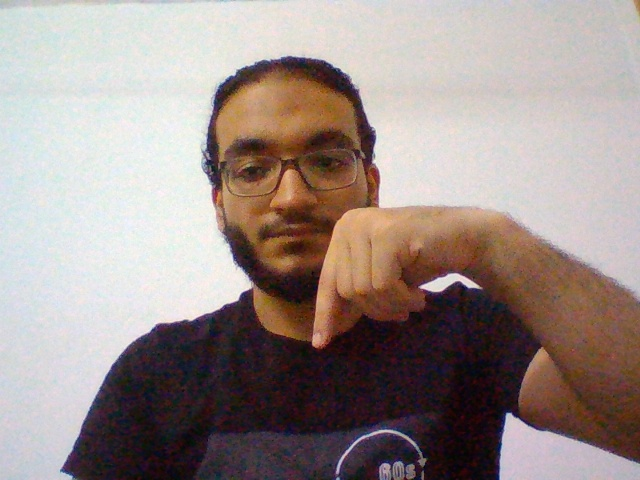Yes: (310, 203, 522, 350)
